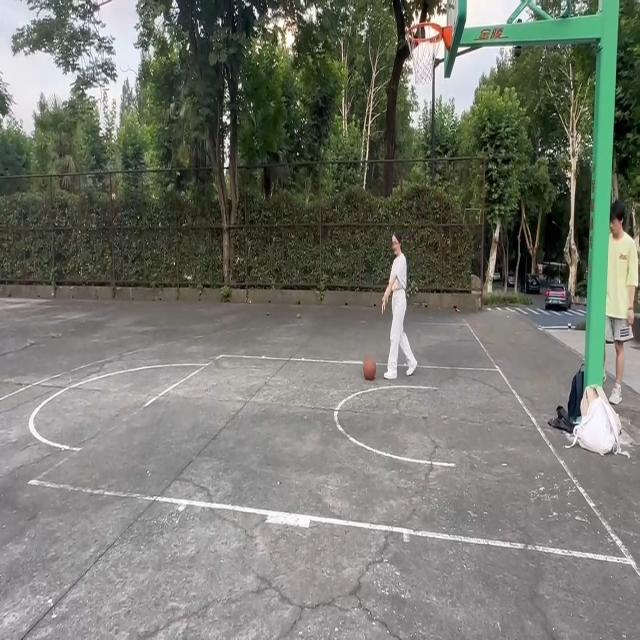basketball: (407, 22, 452, 106)
rim: (362, 356, 376, 380)
